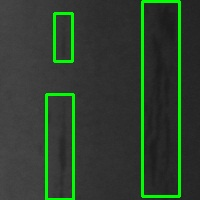inclusion: (142, 1, 179, 196), (46, 94, 73, 199), (54, 13, 72, 61)
